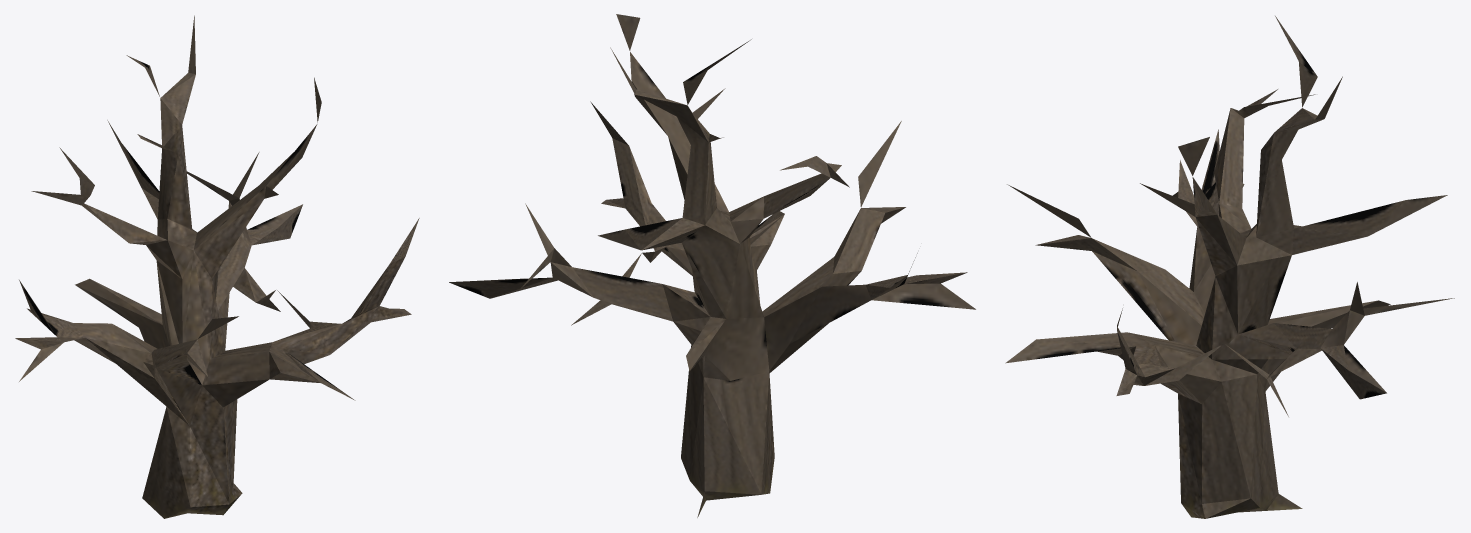
The picture shows the model from 3 angles, left to right: view 1: azimuth 30°, elevation 25°; view 2: azimuth 150°, elevation 25°; view 3: azimuth 270°, elevation 25°; orthographic projection. The views are drawn at different scales.
Visible parts, largest first — view 1: output_unwrapped; view 2: output_unwrapped; view 3: output_unwrapped.
Boxes of the visible parts, x1,y1,x2,y2 form: output_unwrapped: (15, 15, 419, 518); output_unwrapped: (449, 14, 975, 517); output_unwrapped: (1005, 16, 1454, 518).
Size of the model in its own units: 1.73 by 1.92 by 1.65.
Materials: 1 (1 with a texture image).
